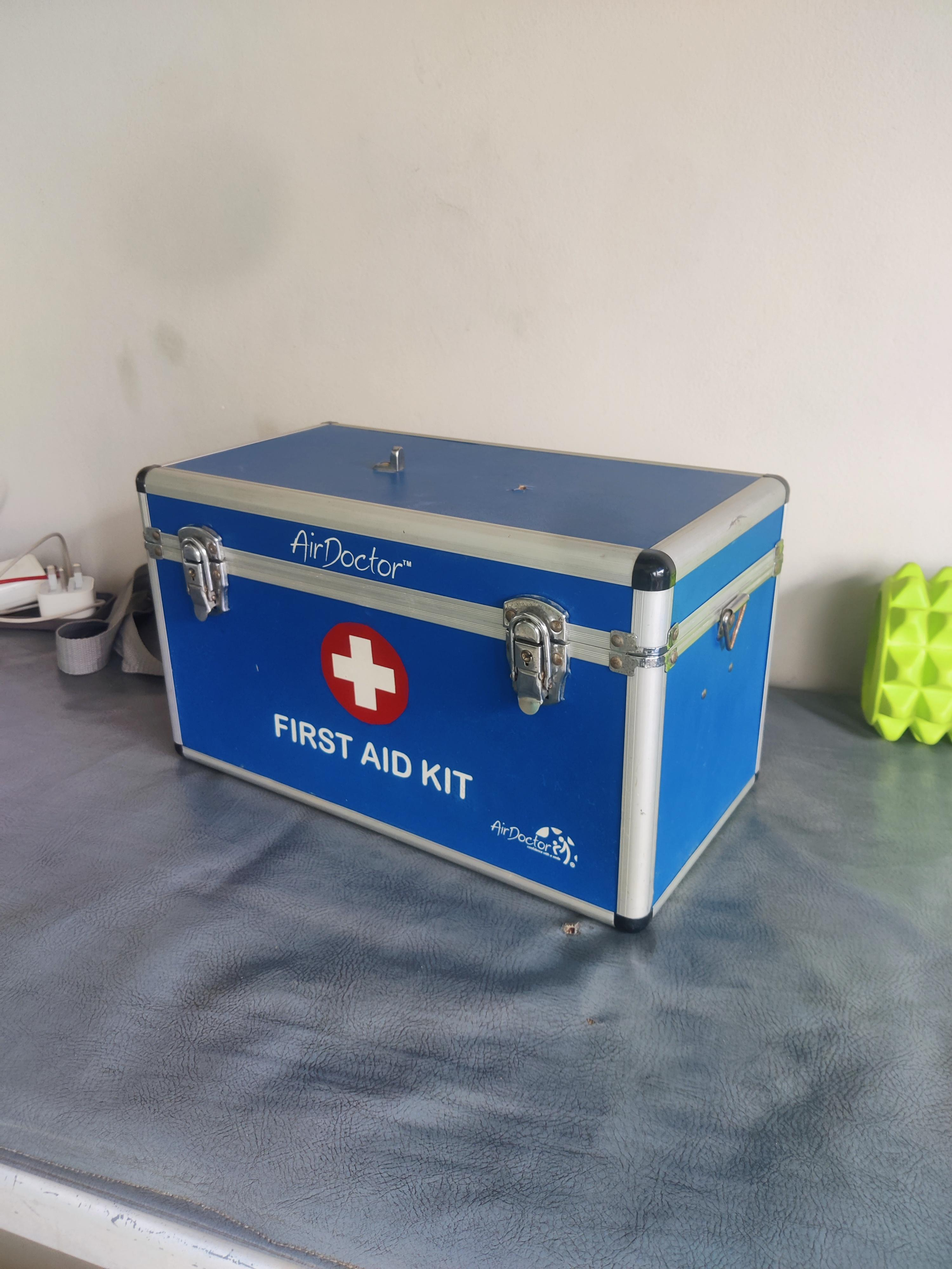FirstAidBox: (116, 372, 815, 973)
